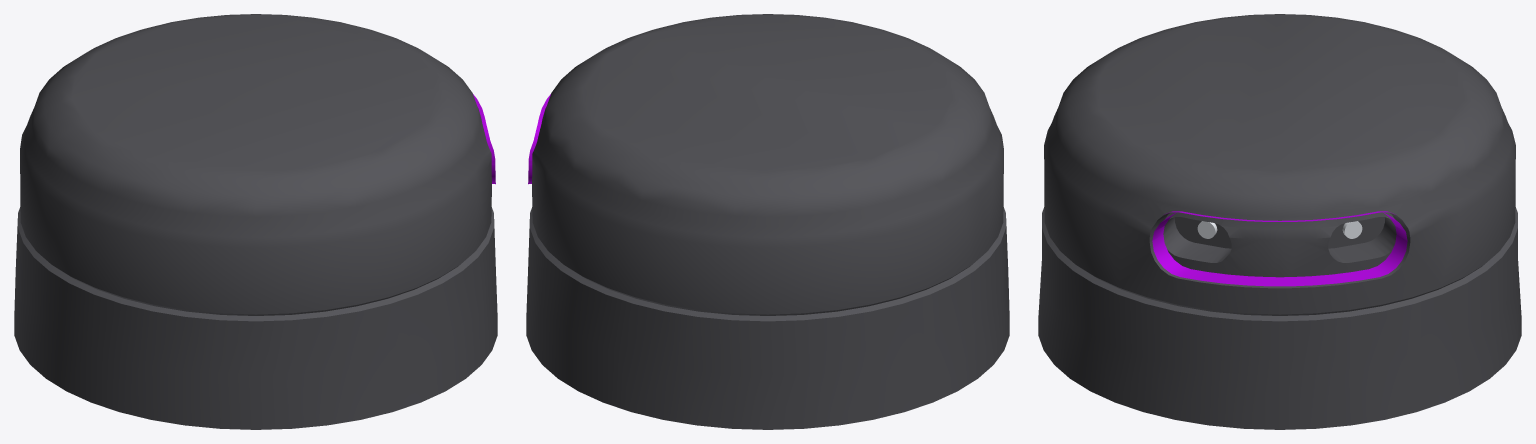
3 renders of one model, left to right at view 1: azimuth 30°, elevation 25°; view 2: azimuth 150°, elevation 25°; view 3: azimuth 270°, elevation 25°, orthographic.
Parts seen in each view (by area): view 1: n_dark; view 2: n_dark; view 3: n_dark, n_band, n_lens.
Boxes of the visible parts, x1,y1,x2,y2 form: n_dark: (14,14,497,429); n_dark: (526,14,1009,429); n_dark: (1038,14,1521,429); n_band: (1152,211,1407,286); n_lens: (1197,221,1362,238).
Bounding box in the file's own units: 0.076 × 0.0405 × 0.0758.
